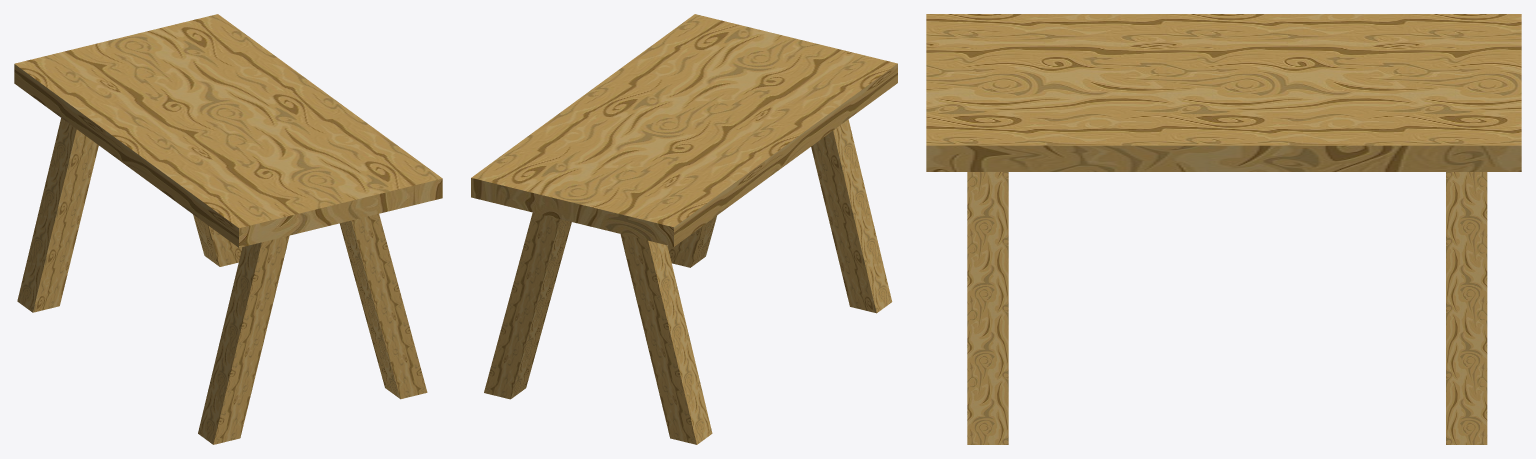
File: Table.FBX
3 views of the same model, side by side, from view 1: azimuth 30°, elevation 25°; view 2: azimuth 150°, elevation 25°; view 3: azimuth 270°, elevation 25° (orthographic). The views are drawn at different scales.
Visible parts, largest first — view 1: TableTop, TableLeg4, TableLeg1, TableLeg3, TableLeg2; view 2: TableTop, TableLeg1, TableLeg4, TableLeg2, TableLeg3; view 3: TableTop, TableLeg3, TableLeg2.
Part boxes in pixels (bbox=[...]): TableTop: bbox=[14, 14, 442, 247]; TableLeg4: bbox=[198, 235, 289, 444]; TableLeg1: bbox=[17, 118, 98, 312]; TableLeg3: bbox=[339, 214, 427, 399]; TableLeg2: bbox=[193, 214, 242, 266]; TableTop: bbox=[471, 14, 897, 246]; TableLeg1: bbox=[620, 234, 712, 444]; TableLeg4: bbox=[811, 119, 892, 313]; TableLeg2: bbox=[484, 212, 571, 399]; TableLeg3: bbox=[667, 215, 717, 267]; TableTop: bbox=[926, 14, 1521, 171]; TableLeg3: bbox=[967, 172, 1008, 444]; TableLeg2: bbox=[1446, 172, 1487, 444].
Bounding box in the file's own units: 1.44 × 1.45 × 2.61.
1 material, 1 textured.
